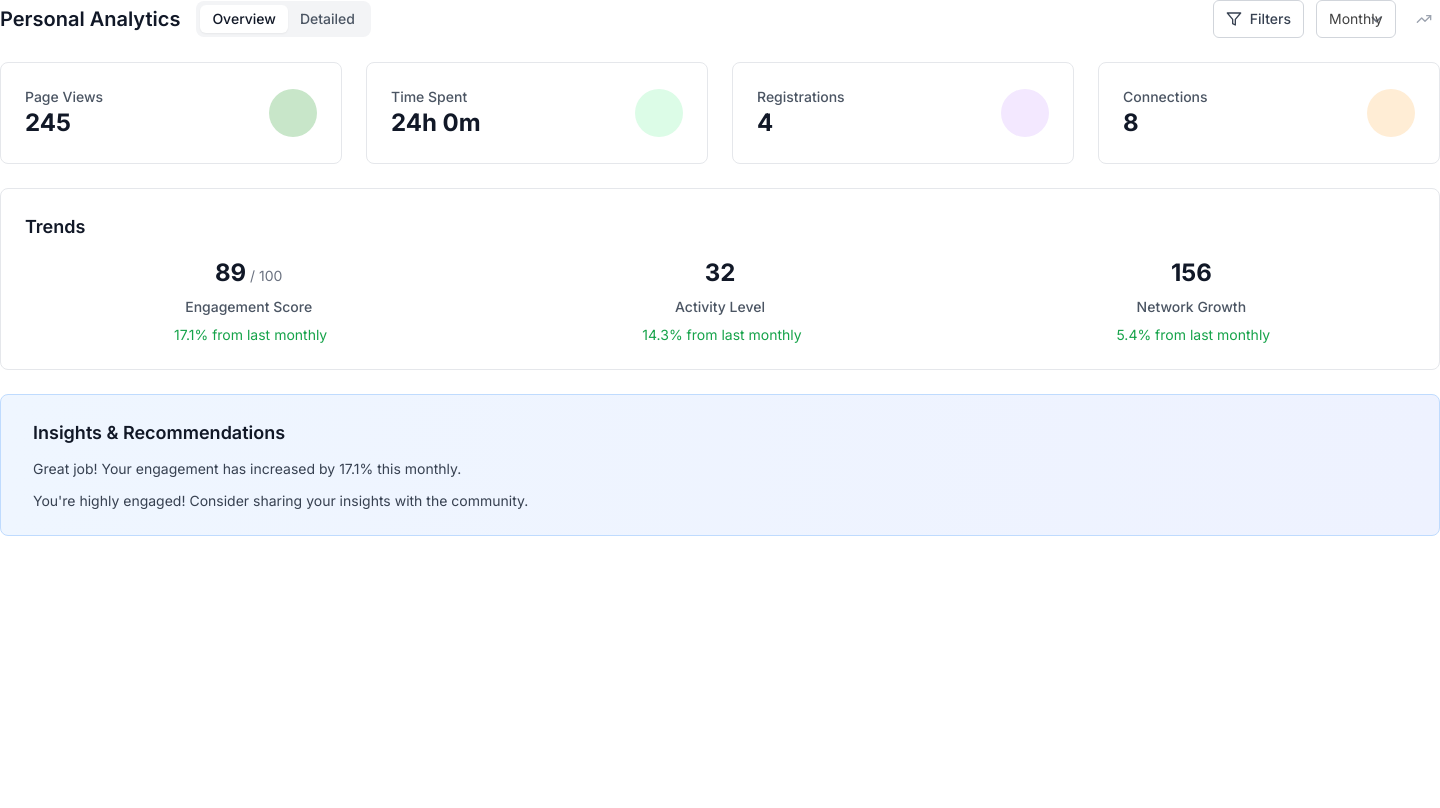
Test: PersonalAnalytics › shows and hides filters panel
The width and height of the screenshot is (1440, 808).
Expected: the heading "Personal Analytics" is shown, [0,5,180,33]
Note: Open filters
Click the button "Filters" at (1258, 19), box [1213,0,1304,38]
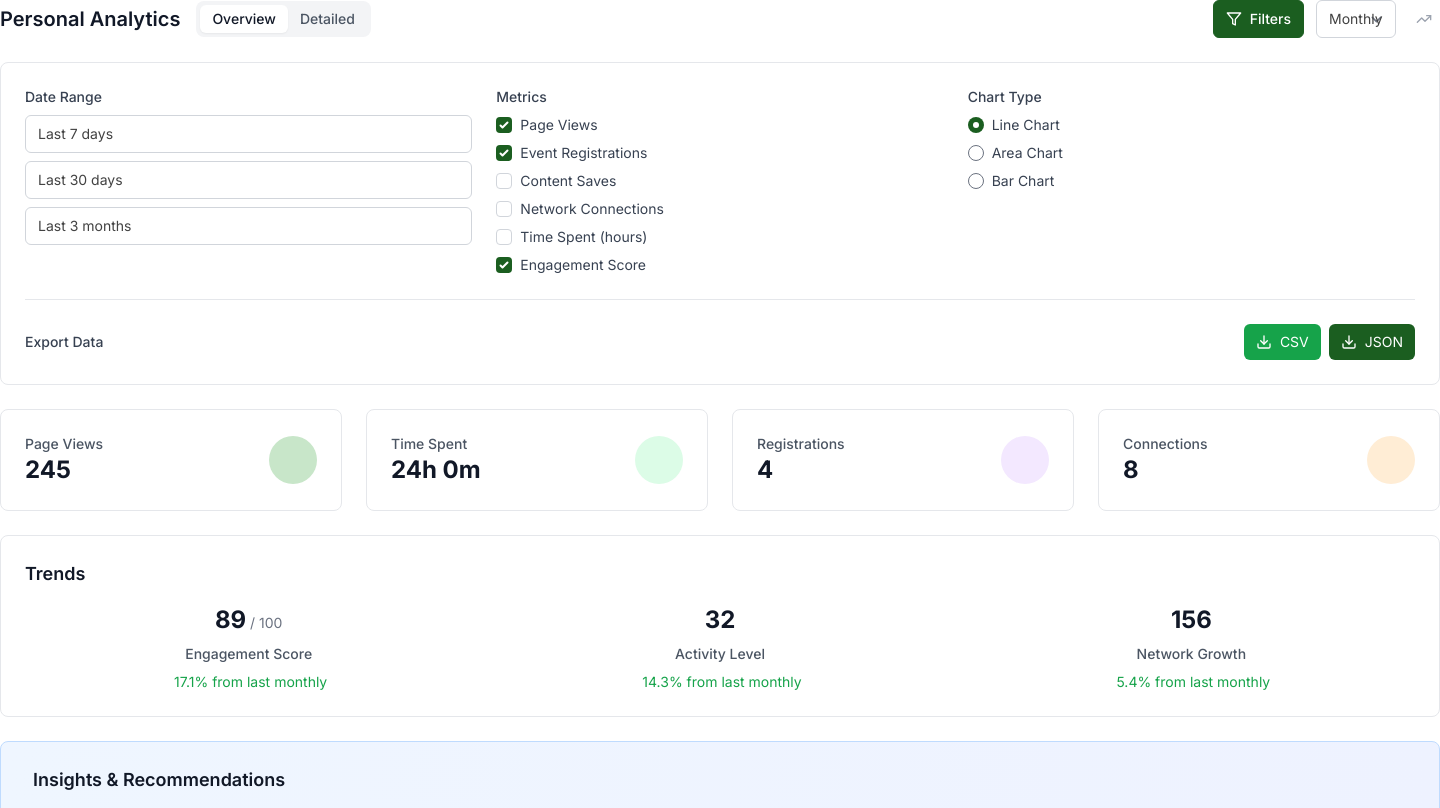
Expected: the text "Date Range" is shown, [25,88,102,105]
Expected: the text "Metrics" is shown, [496,88,547,105]
Expected: the text "Chart Type" is shown, [968,88,1042,105]
